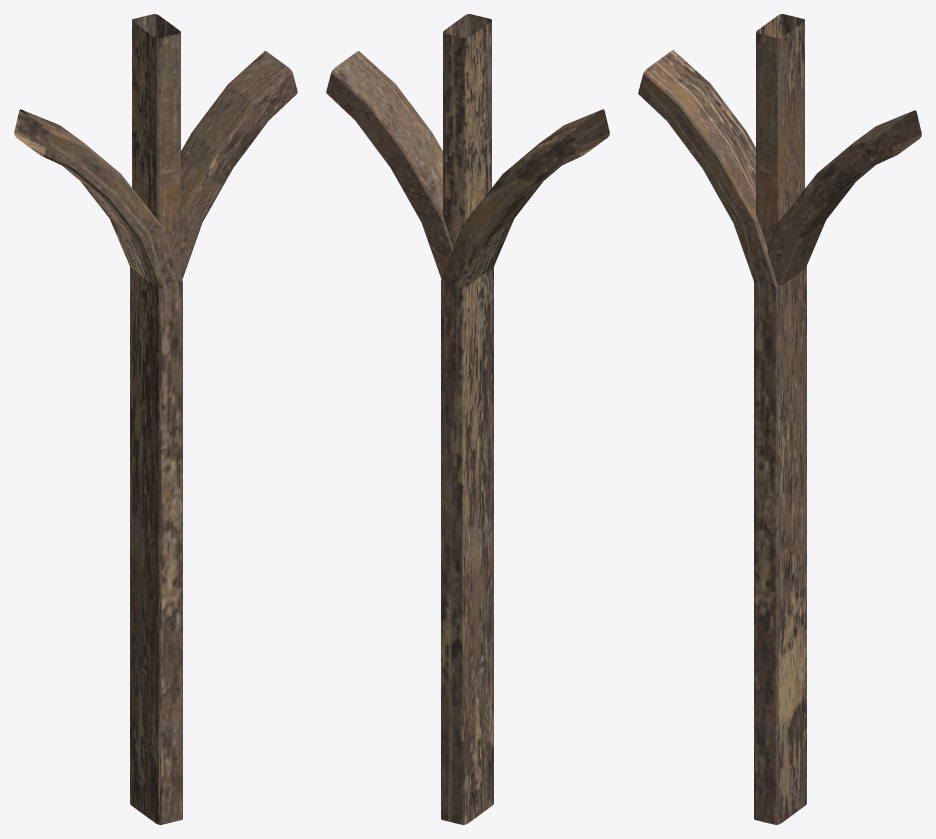
Rendered from WindowSet_SplitArch_CelticArch.fbx.
3 renders of one model, left to right at view 1: azimuth 30°, elevation 25°; view 2: azimuth 150°, elevation 25°; view 3: azimuth 330°, elevation 25°, orthographic.
Parts seen in each view (by area): view 1: WindowSet_SplitArch_CelticArch_LOD0; view 2: WindowSet_SplitArch_CelticArch_LOD0; view 3: WindowSet_SplitArch_CelticArch_LOD0.
Part boxes in pixels (left/top/right/bottom): WindowSet_SplitArch_CelticArch_LOD0: left=14, top=14, right=297, bottom=824; WindowSet_SplitArch_CelticArch_LOD0: left=326, top=14, right=609, bottom=824; WindowSet_SplitArch_CelticArch_LOD0: left=638, top=14, right=921, bottom=824.
Size of what is drawn, in the model's own units: 15.69 by 46 by 3.24.
